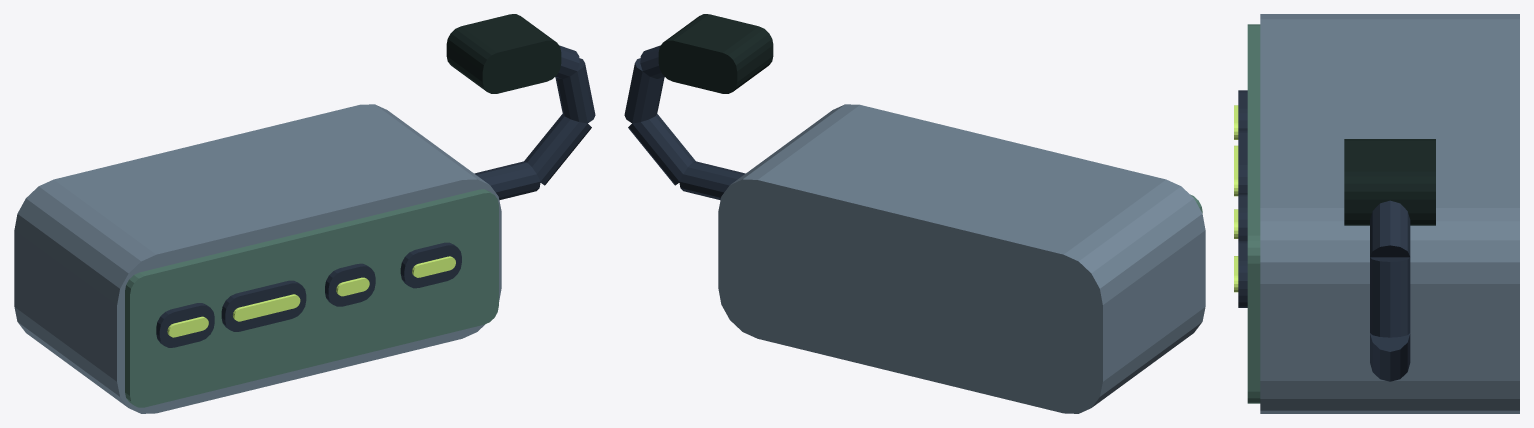
The model's file is adapterhub.glb.
3 renders of one model, left to right at view 1: azimuth 30°, elevation 25°; view 2: azimuth 150°, elevation 25°; view 3: azimuth 270°, elevation 25°, orthographic. The views are drawn at different scales.
Parts seen in each view (by area): view 1: shell, face, plug, port 1, cable1, port 3, cable2, cable0, port 0, port 2, port tongue 1, port tongue 3 (+2 smaller); view 2: shell, plug, cable1, cable2, cable0, cable3; view 3: shell, plug, face, cable2, cable3, cable1, port 3, port 1, port 2, port 0.
Boxes of the visible parts, <box> form: shell: <box>14,104,501,413</box>; face: <box>125,189,498,407</box>; plug: <box>446,14,561,93</box>; port 1: <box>221,280,306,331</box>; cable1: <box>524,114,591,185</box>; port 3: <box>400,242,461,288</box>; cable2: <box>555,58,595,123</box>; cable0: <box>474,161,540,200</box>; port 0: <box>156,303,214,347</box>; port 2: <box>325,263,375,306</box>; port tongue 1: <box>233,294,300,321</box>; port tongue 3: <box>412,256,455,277</box>; shell: <box>718,104,1205,413</box>; plug: <box>658,14,773,93</box>; cable1: <box>628,114,695,185</box>; cable2: <box>624,58,664,123</box>; cable0: <box>679,161,745,200</box>; cable3: <box>640,45,664,78</box>; shell: <box>1260,14,1519,413</box>; plug: <box>1344,139,1435,225</box>; face: <box>1247,24,1260,403</box>; cable2: <box>1370,257,1410,337</box>; cable3: <box>1370,200,1410,257</box>; cable1: <box>1370,333,1410,381</box>; port 3: <box>1238,241,1247,307</box>; port 1: <box>1238,130,1247,194</box>; port 2: <box>1238,194,1247,241</box>; port 0: <box>1238,90,1247,130</box>.
Bounding box in the file's own units: 2.02 × 0.895 × 0.749.
